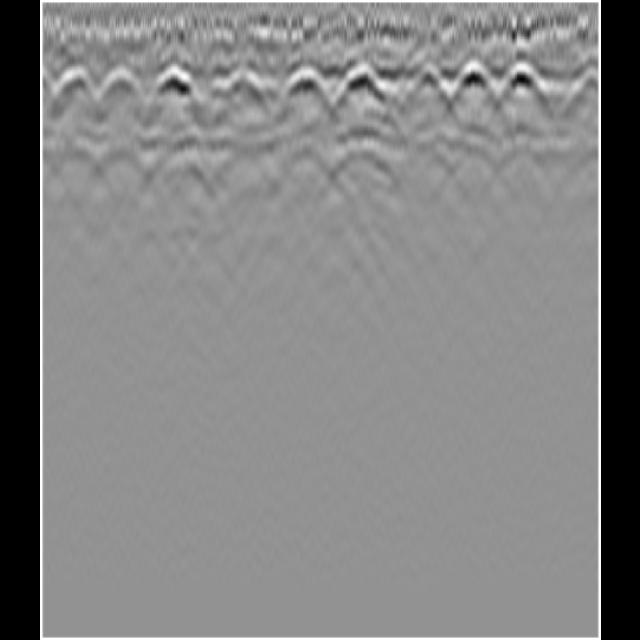hyperbola: (89, 66, 147, 114), (495, 57, 551, 101), (272, 64, 332, 104), (218, 66, 266, 114), (50, 64, 100, 110), (149, 62, 199, 106), (338, 59, 388, 96), (450, 56, 496, 92), (407, 62, 448, 101), (564, 64, 598, 108)
